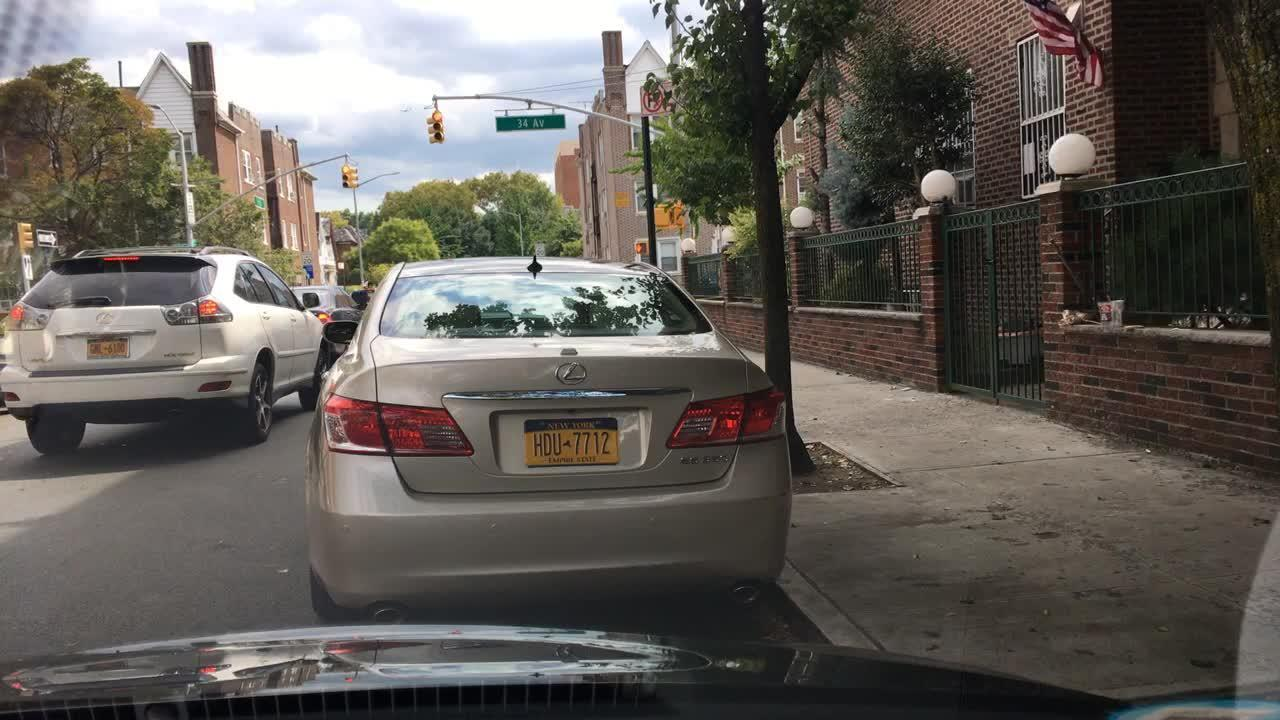lexus: (553, 356, 602, 396), (93, 309, 116, 327)
